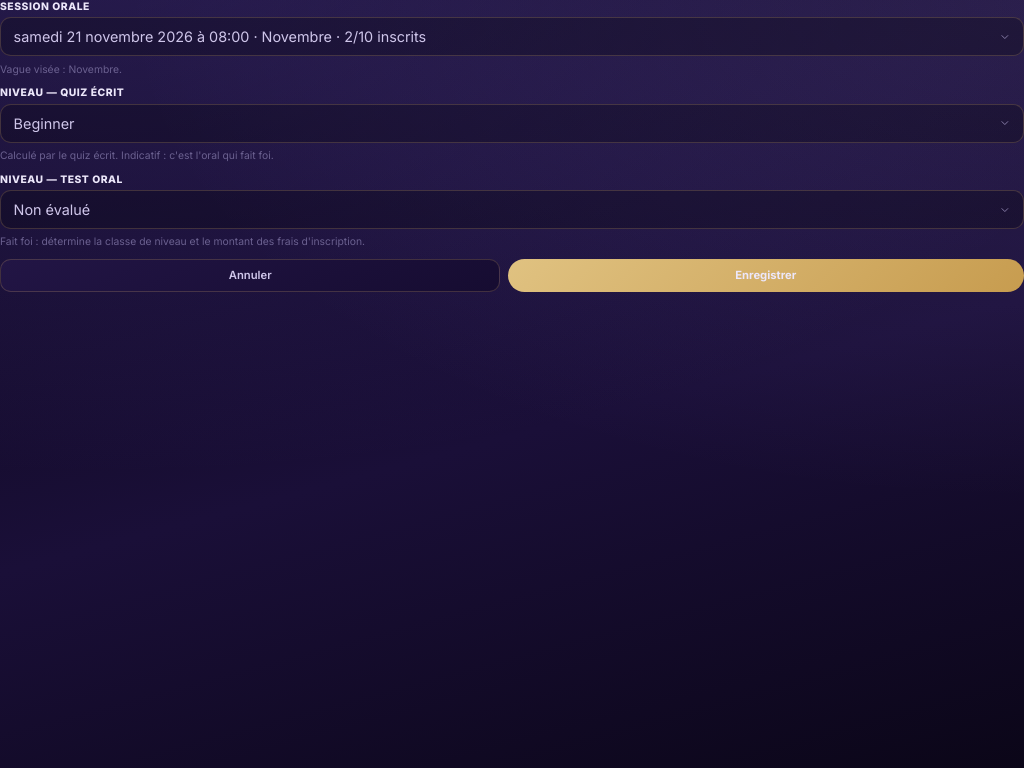
Test case: ModifierParcoursCollectif — la session orale › prévient quand la session choisie relève d’une autre vague
The image size is (1024, 768).
Click the button named "Session orale": {"x": 220, "y": 37} [0,17,1023,56]
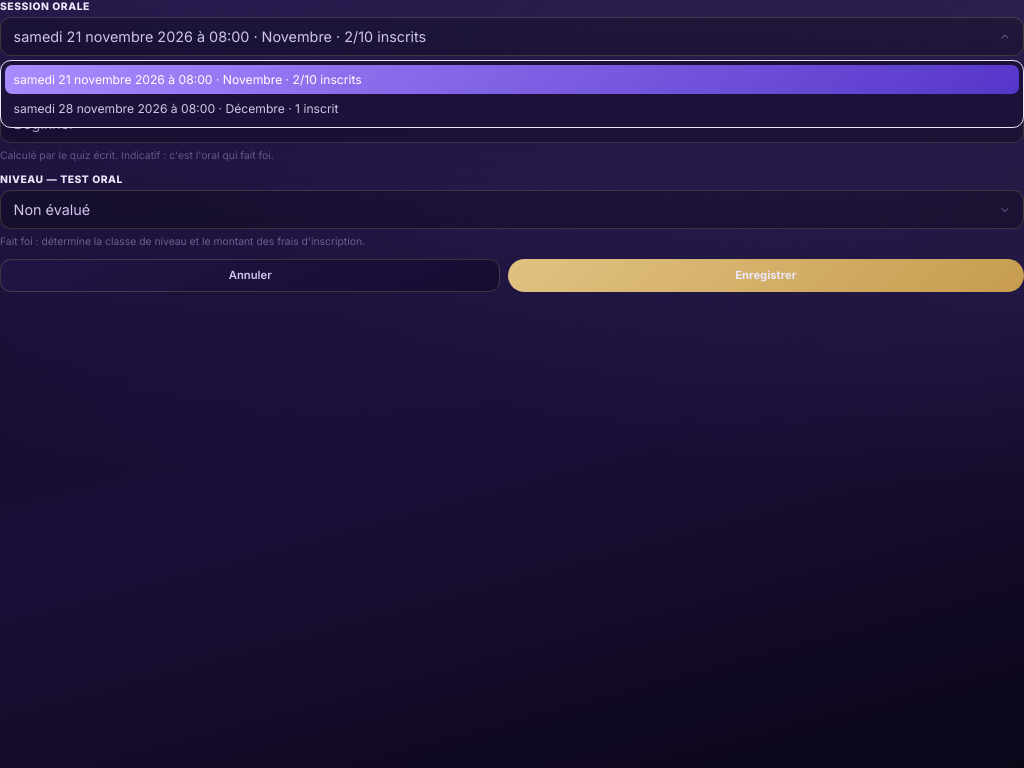
Click the option "samedi 28 novembre 2026 à 08:00 · Décembre · 1 inscrit": {"x": 176, "y": 109} [5,94,1019,124]
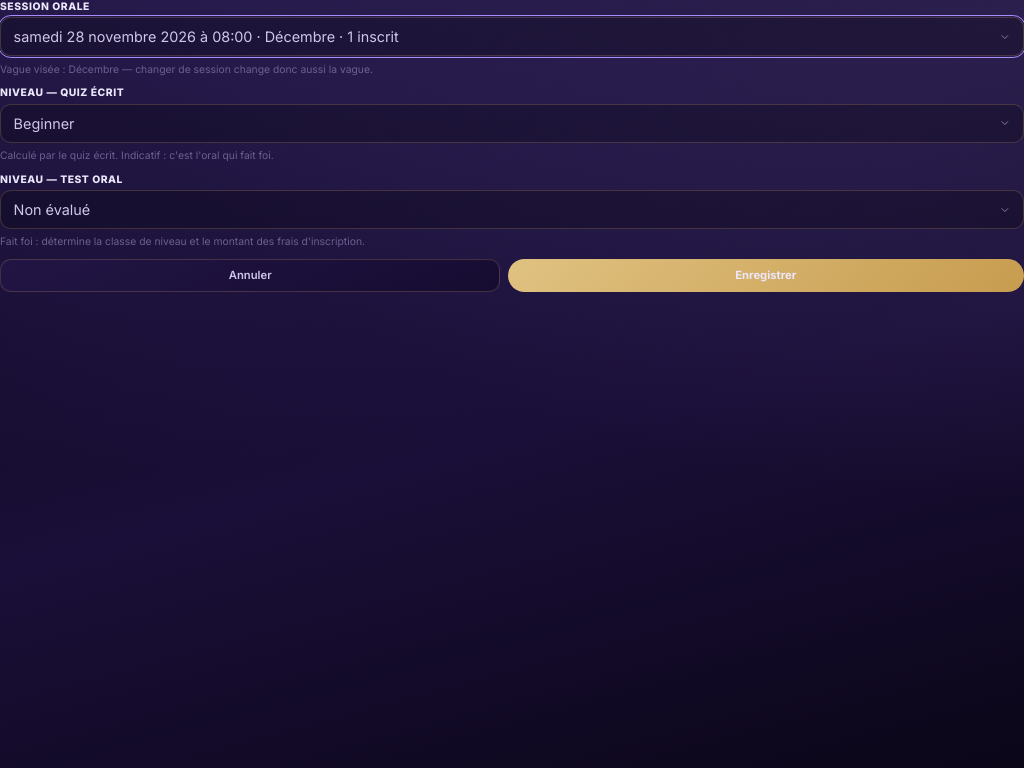
Expected: the text "changer de session change donc aussi la vague" is shown, [0,63,373,75]
